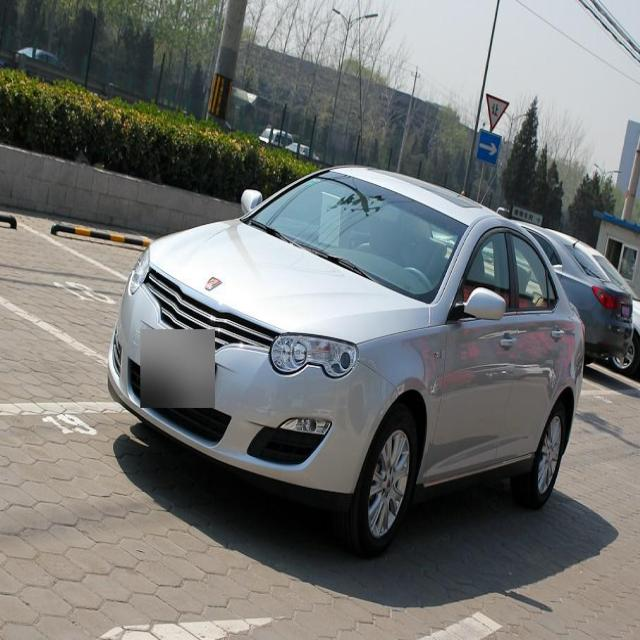door: (507, 228, 569, 467)
front_bumper: (106, 269, 401, 497)
front_glass: (248, 168, 470, 304)
front_left_side_door: (421, 213, 514, 487)
front_left_side_light: (269, 331, 359, 382)
front_left_side_mirror: (450, 286, 507, 322)
front_right_side_light: (128, 244, 151, 296)
front_right_side_mirror: (241, 187, 263, 227)
wheel: (356, 408, 417, 553), (515, 398, 565, 507)
